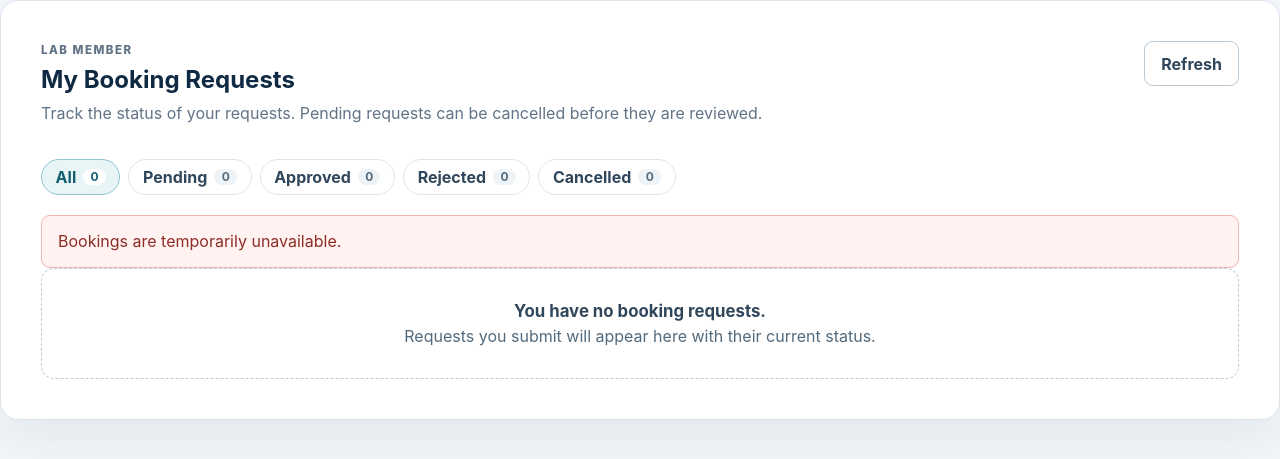
Test case: MyBookings › reports a load failure and can refresh the list
The width and height of the screenshot is (1280, 459).
Expected: the message reads "Bookings are temporarily unavailable.", [58,231,341,251]
What coordinates should you click on to do the following:
click the button "Refresh"
I would click on:
 (1192, 64)
Its box is [1144,41,1239,86].
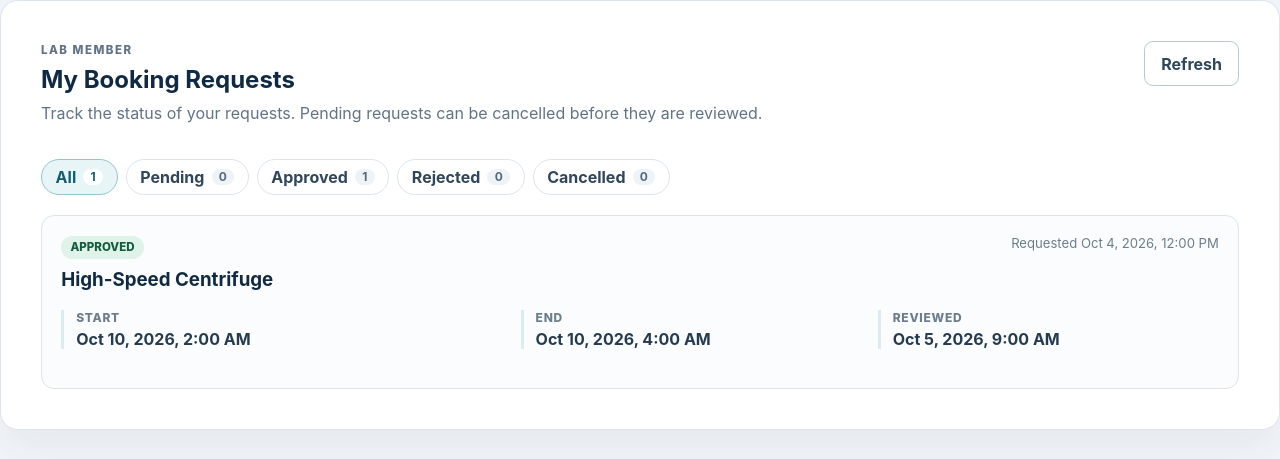
Now the heading "High-Speed Centrifuge" is shown, box [61,268,273,291]
Now the message "Bookings are temporarily unavailable." is gone
